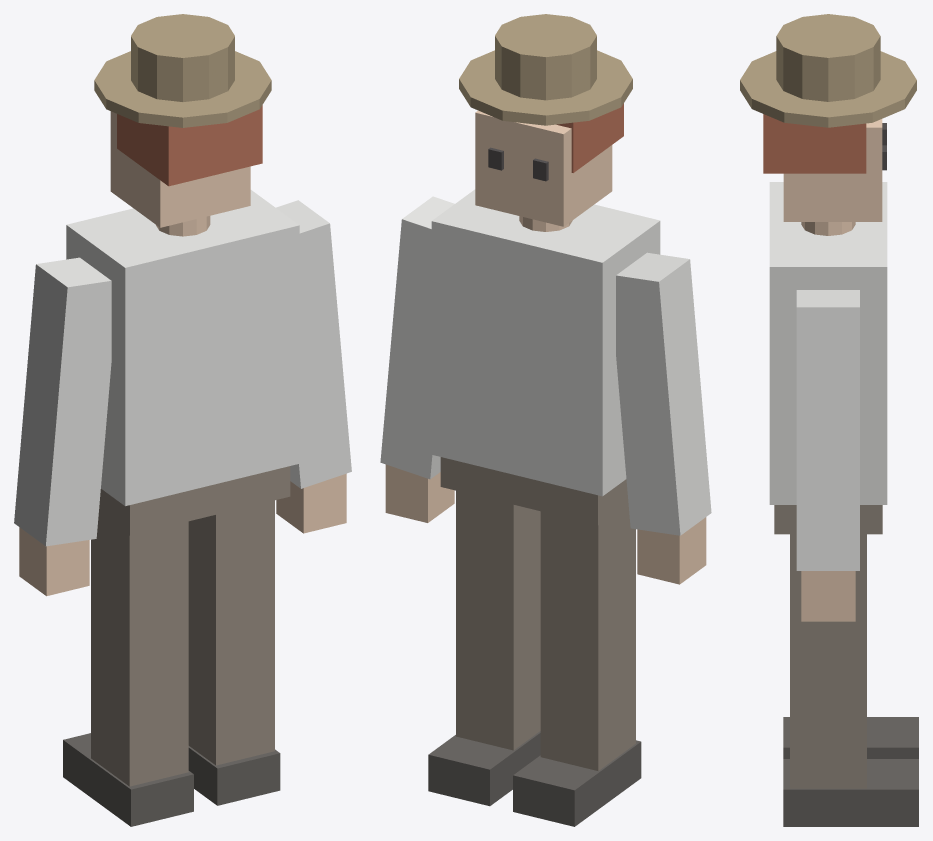
File: civ_07.glb
3 renders of one model, left to right at view 1: azimuth 30°, elevation 25°; view 2: azimuth 150°, elevation 25°; view 3: azimuth 270°, elevation 25°, orthographic. The views are drawn at different scales.
Visible parts, largest first — view 1: civ_07_torso, civ_07_leg_L, civ_07_arm_L, civ_07_leg_R, civ_07_arm_R, civ_07_hattop, civ_07_hair, civ_07_hatbrim, civ_07_head, civ_07_pelvis, civ_07_shoe_L, civ_07_shoe_R (+3 smaller); view 2: civ_07_torso, civ_07_leg_L, civ_07_arm_L, civ_07_leg_R, civ_07_arm_R, civ_07_head, civ_07_hattop, civ_07_shoe_L, civ_07_hatbrim, civ_07_pelvis, civ_07_shoe_R, civ_07_hand_L (+2 smaller); view 3: civ_07_torso, civ_07_arm_R, civ_07_leg_R, civ_07_hattop, civ_07_shoe_R, civ_07_hatbrim, civ_07_head, civ_07_hair, civ_07_hand_R, civ_07_shoe_L, civ_07_pelvis, civ_07_neck.
Part boxes in pixels (x1,y1,x2,y2): civ_07_torso: [66, 190, 299, 506]; civ_07_leg_L: [91, 513, 188, 786]; civ_07_arm_L: [14, 257, 111, 546]; civ_07_leg_R: [188, 500, 274, 765]; civ_07_arm_R: [276, 200, 351, 488]; civ_07_hattop: [131, 14, 234, 101]; civ_07_hair: [117, 105, 262, 186]; civ_07_hatbrim: [94, 51, 271, 127]; civ_07_head: [110, 111, 250, 227]; civ_07_pelvis: [99, 466, 290, 535]; civ_07_shoe_L: [63, 733, 193, 826]; civ_07_shoe_R: [188, 746, 280, 805]; civ_07_torso: [431, 189, 660, 496]; civ_07_leg_L: [540, 503, 635, 770]; civ_07_arm_L: [616, 252, 711, 535]; civ_07_leg_R: [456, 490, 540, 750]; civ_07_arm_R: [380, 196, 454, 479]; civ_07_head: [475, 110, 612, 226]; civ_07_hattop: [495, 14, 596, 100]; civ_07_shoe_L: [513, 740, 641, 826]; civ_07_hatbrim: [459, 50, 632, 125]; civ_07_pelvis: [440, 457, 628, 525]; civ_07_shoe_R: [428, 731, 540, 806]; civ_07_hand_L: [637, 517, 706, 584]; civ_07_torso: [769, 182, 887, 504]; civ_07_arm_R: [796, 290, 859, 570]; civ_07_leg_R: [790, 534, 866, 788]; civ_07_hattop: [776, 14, 880, 101]; civ_07_shoe_R: [783, 759, 918, 826]; civ_07_hatbrim: [740, 51, 916, 127]; civ_07_head: [783, 119, 882, 221]; civ_07_hair: [763, 114, 866, 173]; civ_07_hand_R: [801, 571, 855, 621]; civ_07_shoe_L: [783, 717, 918, 758]; civ_07_pelvis: [774, 505, 882, 534]; civ_07_neck: [801, 222, 855, 235].
Bounding box in the file's own units: 0.7718 × 1.82 × 0.3915.
